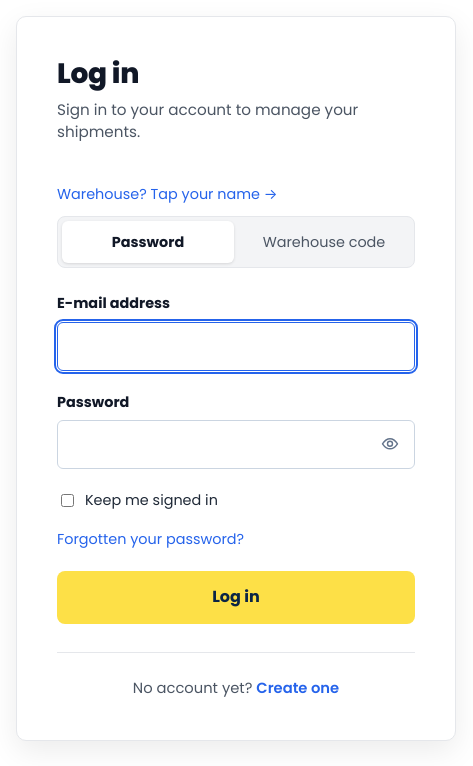
it: Login on a registered floor device › opens on the ordinary form, with the names one button away
The width and height of the screenshot is (473, 766).
Check: the field labelled "E-mail address" is shown, box [57,322,415,371]
Check: the text "Ana S." is not shown
Click the button "Warehouse? Tap your name →": (167, 194) [57,172,278,216]
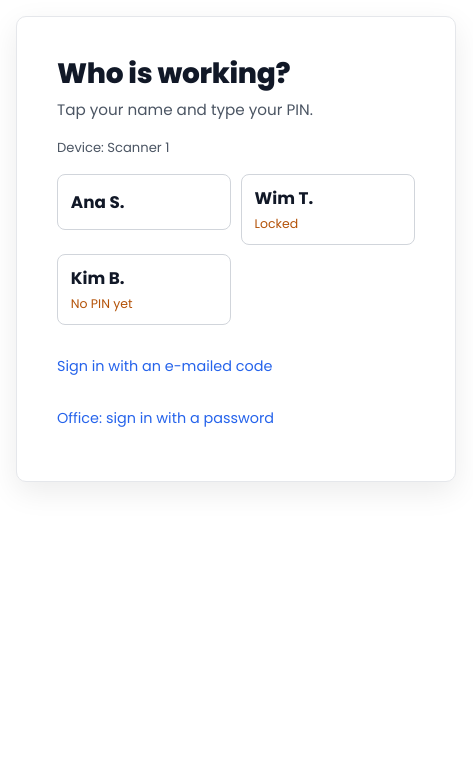
Check: the heading "Who is working?" is shown, box [57,54,290,93]
Check: the text "Device: Scanner 1" is shown, box [57,138,169,157]
Check: the button "Ana S." is shown, box [57,174,231,230]
